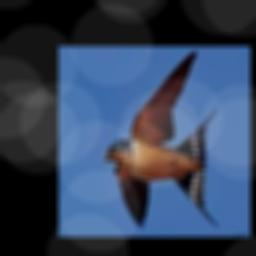Swallow: (100, 49, 218, 228)
